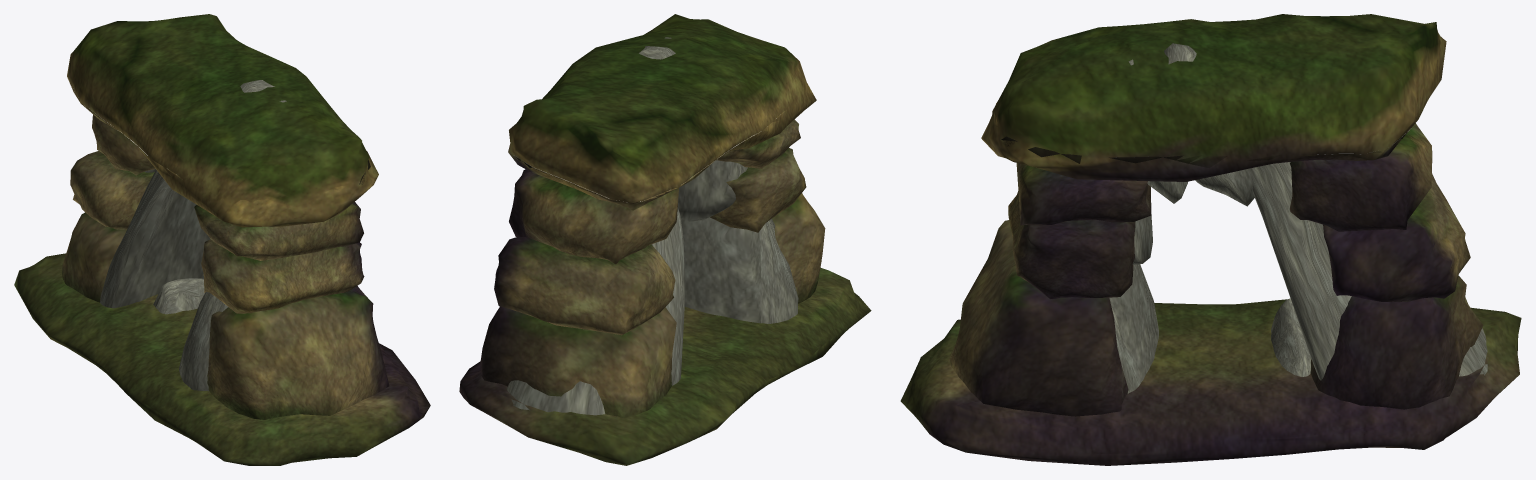
The model's file is cave-portal.glb.
3 renders of one model, left to right at view 1: azimuth 30°, elevation 25°; view 2: azimuth 150°, elevation 25°; view 3: azimuth 270°, elevation 25°, orthographic. The views are drawn at different scales.
Parts seen in each view (by area): view 1: CavePortal, CaveEntrance, CavePortalClipped; view 2: CavePortal, CaveEntrance, CavePortalClipped; view 3: CavePortal, CaveEntrance, CavePortalClipped.
Boxes of the visible parts, x1,y1,x2,y2 form: CavePortal: (14, 14, 430, 465); CaveEntrance: (100, 80, 286, 391); CavePortalClipped: (70, 84, 370, 212); CavePortal: (459, 14, 871, 465); CaveEntrance: (507, 37, 798, 415); CavePortalClipped: (510, 109, 787, 202); CavePortal: (900, 14, 1521, 465); CaveEntrance: (1109, 43, 1487, 393); CavePortalClipped: (993, 113, 1410, 168).
Size of the model in its own units: 2.38 by 2.73 by 4.2.
Materials: 3 (2 with a texture image).
